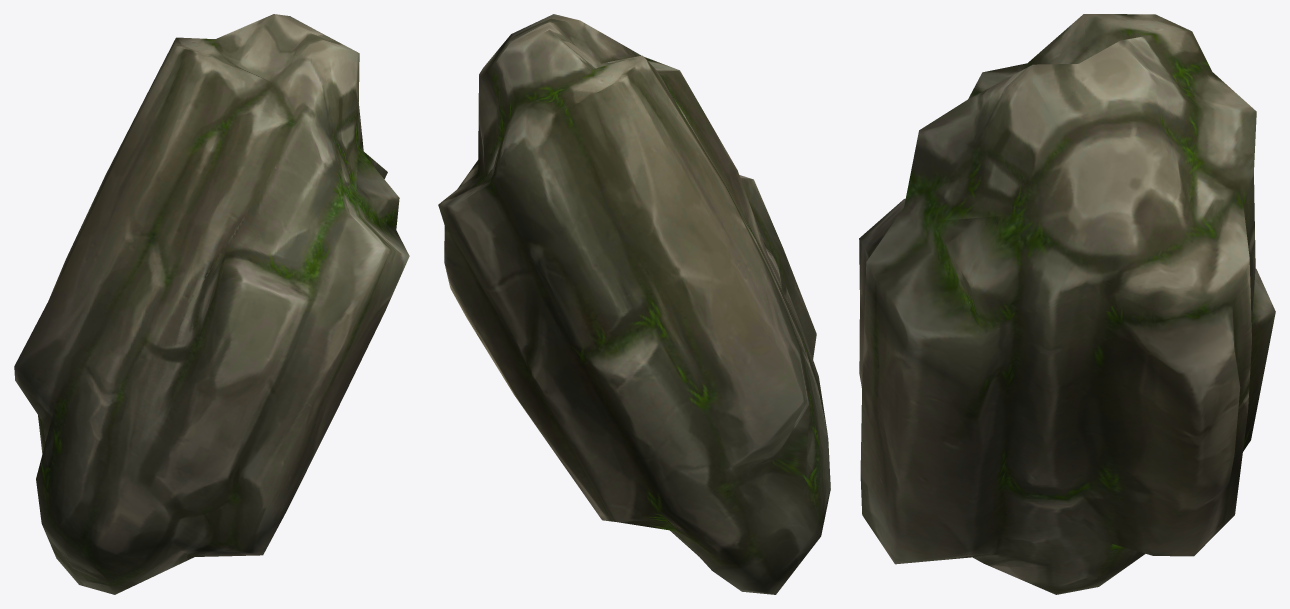
Rendered from RockFormation_4_2 (26).fbx.
The picture shows the model from 3 angles, left to right: view 1: azimuth 30°, elevation 25°; view 2: azimuth 150°, elevation 25°; view 3: azimuth 270°, elevation 25°; orthographic projection. The views are drawn at different scales.
Parts seen in each view (by area): view 1: RockFormation_4_2 (26); view 2: RockFormation_4_2 (26); view 3: RockFormation_4_2 (26).
Boxes of the visible parts, x1,y1,x2,y2 form: RockFormation_4_2 (26): (14,14,409,594); RockFormation_4_2 (26): (438,14,830,594); RockFormation_4_2 (26): (859,14,1275,594).
Bounding box in the file's own units: 146 × 210 × 120.
